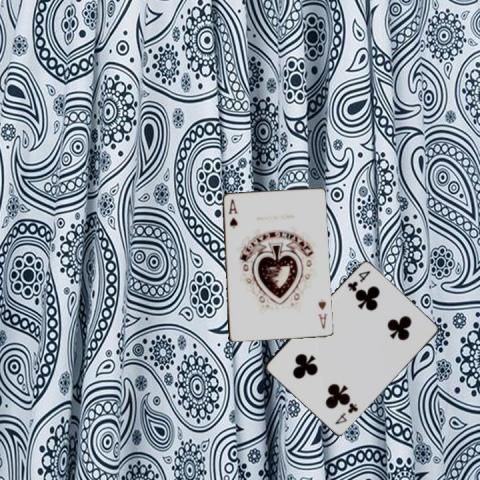4c: (332, 400, 359, 426), (345, 268, 372, 293)
As: (314, 296, 328, 330), (226, 196, 238, 229)
